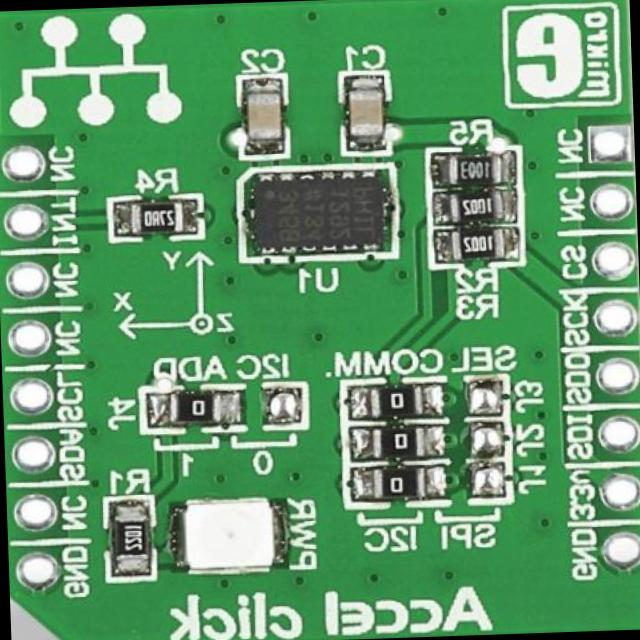IC: (238, 168, 386, 256)
LED: (180, 499, 286, 579)
capacitor: (342, 85, 388, 149), (244, 90, 282, 146)
resistor: (366, 466, 430, 501), (443, 230, 508, 264), (359, 390, 424, 420), (365, 428, 431, 457), (122, 206, 183, 236), (442, 193, 503, 223), (160, 394, 222, 422), (118, 509, 146, 568), (442, 160, 496, 186)
